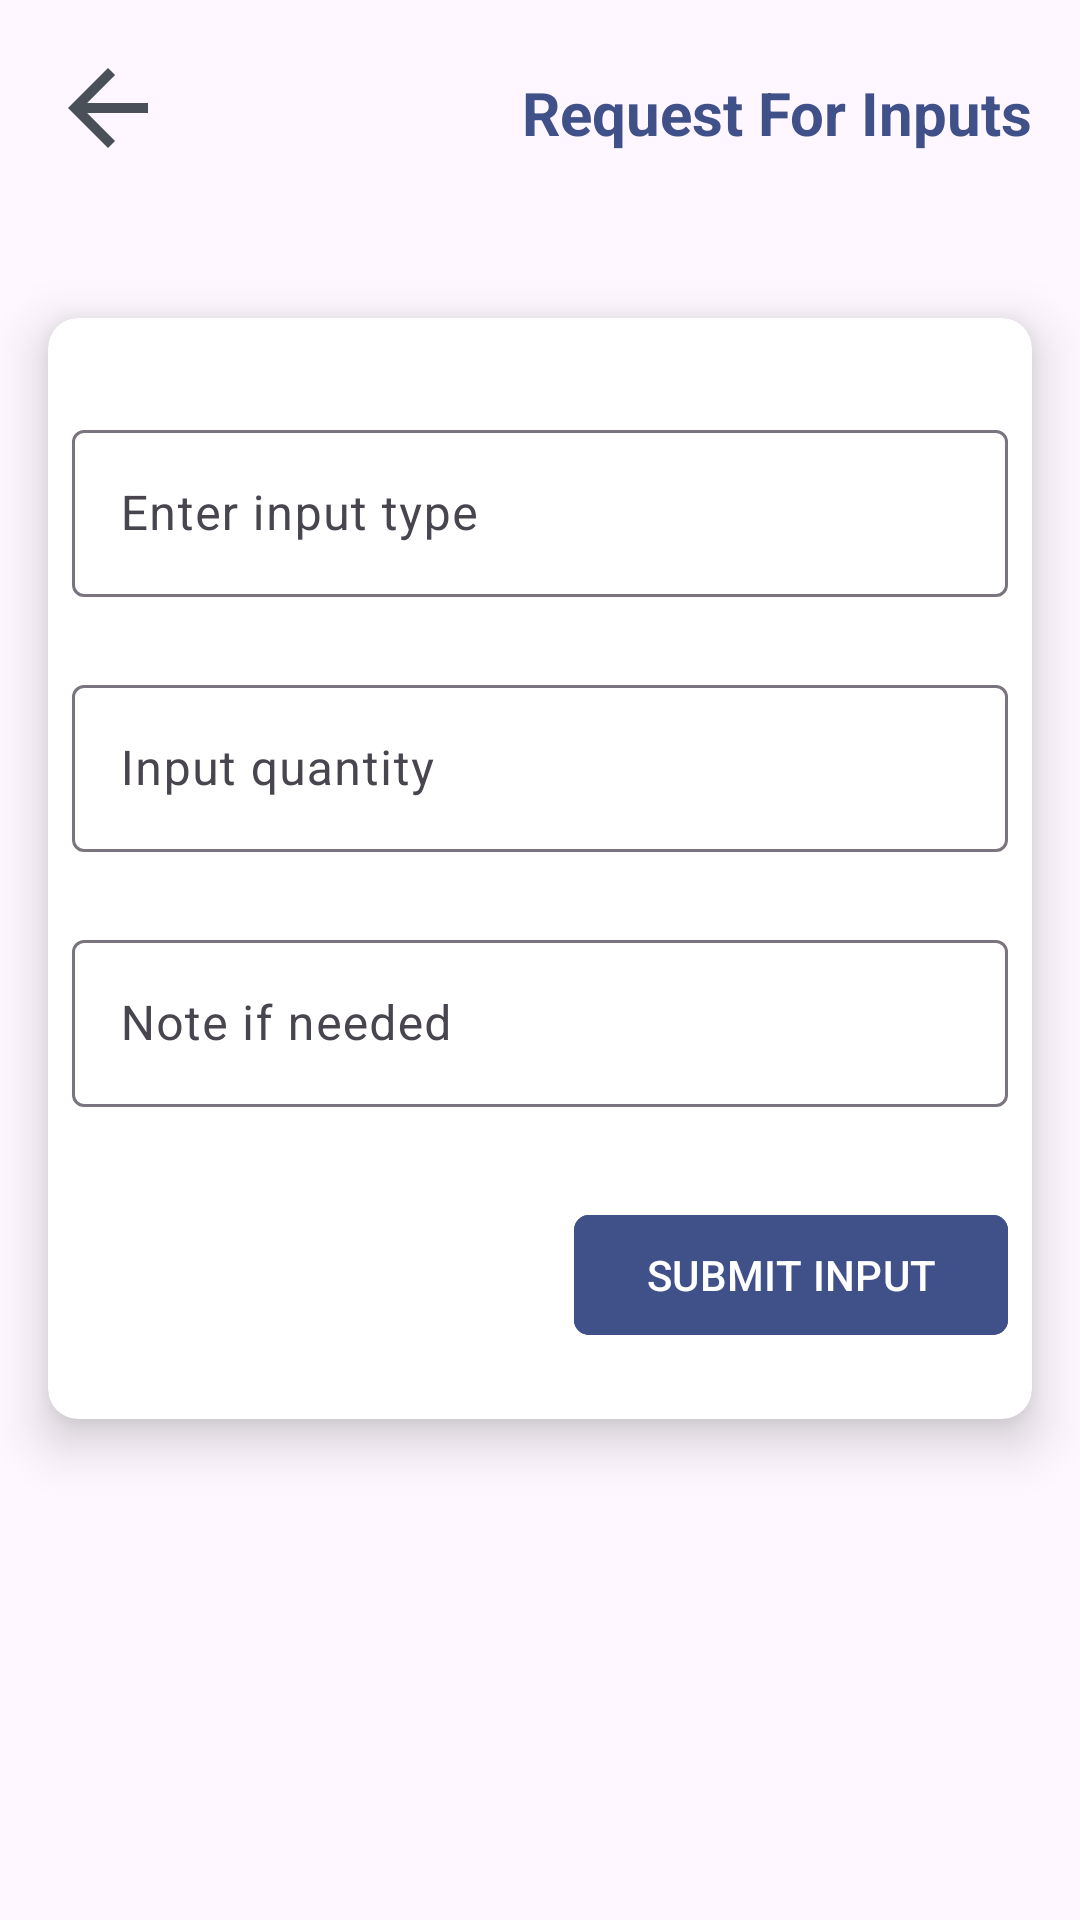

Screen size 1080*1920. Icon name, then its box in pixels as (x1, y1, x2, y2):
arrow back: (68, 68, 148, 148)
